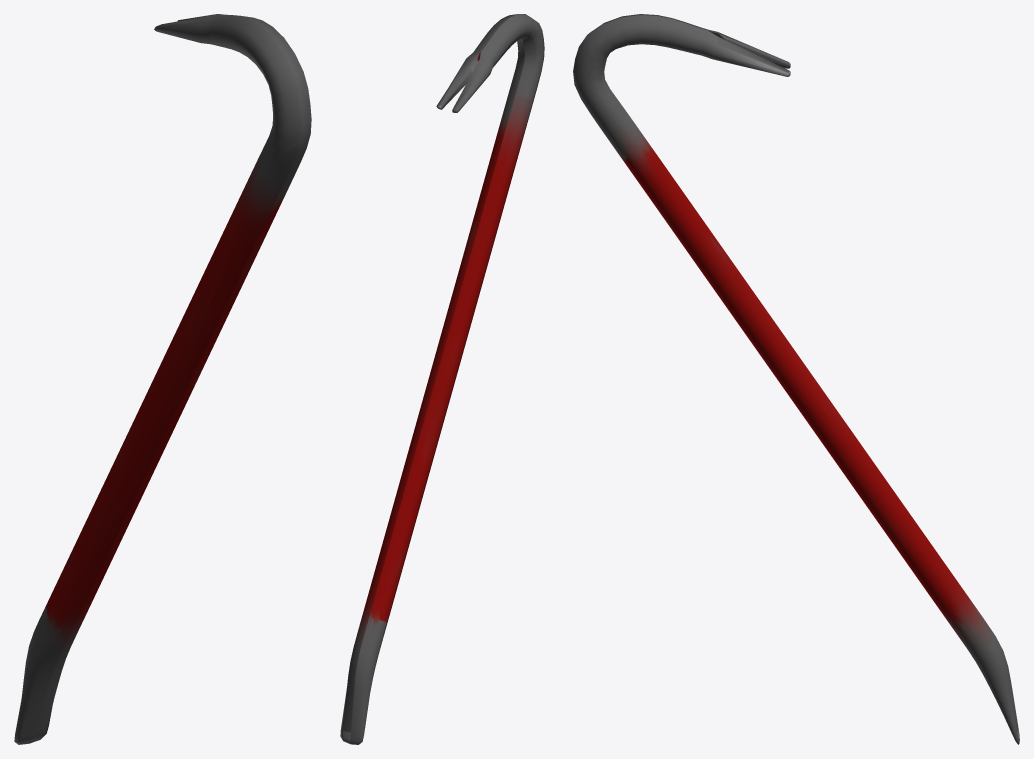
Rendered from crowbar_half-life.glb.
The picture shows the model from 3 angles, left to right: view 1: azimuth 30°, elevation 25°; view 2: azimuth 150°, elevation 25°; view 3: azimuth 270°, elevation 25°; orthographic projection. The views are drawn at different scales.
Parts seen in each view (by area): view 1: Plane_3; view 2: Plane_3; view 3: Plane_3.
Part boxes in pixels (x1,y1,x2,y2): Plane_3: [14, 14, 311, 744]; Plane_3: [340, 14, 544, 744]; Plane_3: [573, 14, 1019, 744].
Bounding box in the file's own units: 0.2052 × 4.3 × 2.39.
Materials: 1 (1 with a texture image).
